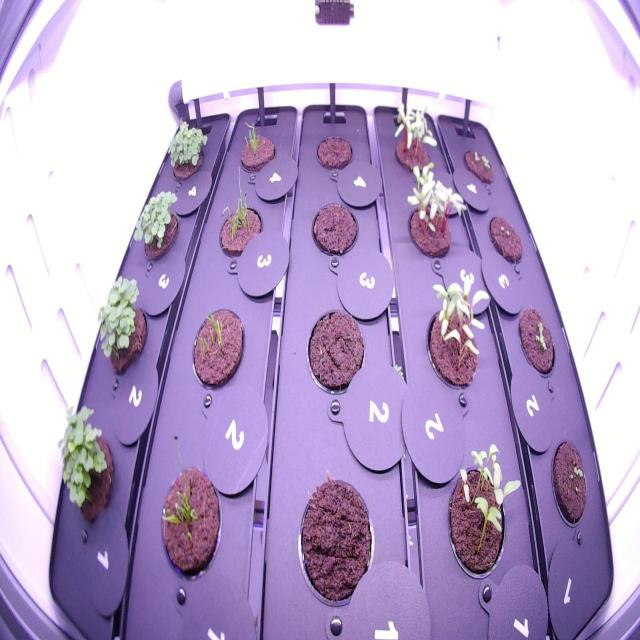germination: (441, 433, 525, 601), (154, 439, 228, 592), (417, 264, 498, 403), (55, 401, 121, 531), (398, 158, 470, 264), (91, 268, 152, 380), (184, 297, 250, 397), (214, 162, 270, 266), (128, 177, 184, 266), (548, 430, 593, 536), (388, 92, 442, 178), (514, 296, 562, 384), (162, 111, 212, 188), (233, 114, 281, 176), (458, 140, 499, 188)
pod: (292, 466, 378, 619), (302, 303, 368, 402), (305, 195, 363, 262), (485, 208, 528, 274), (310, 125, 358, 175)
